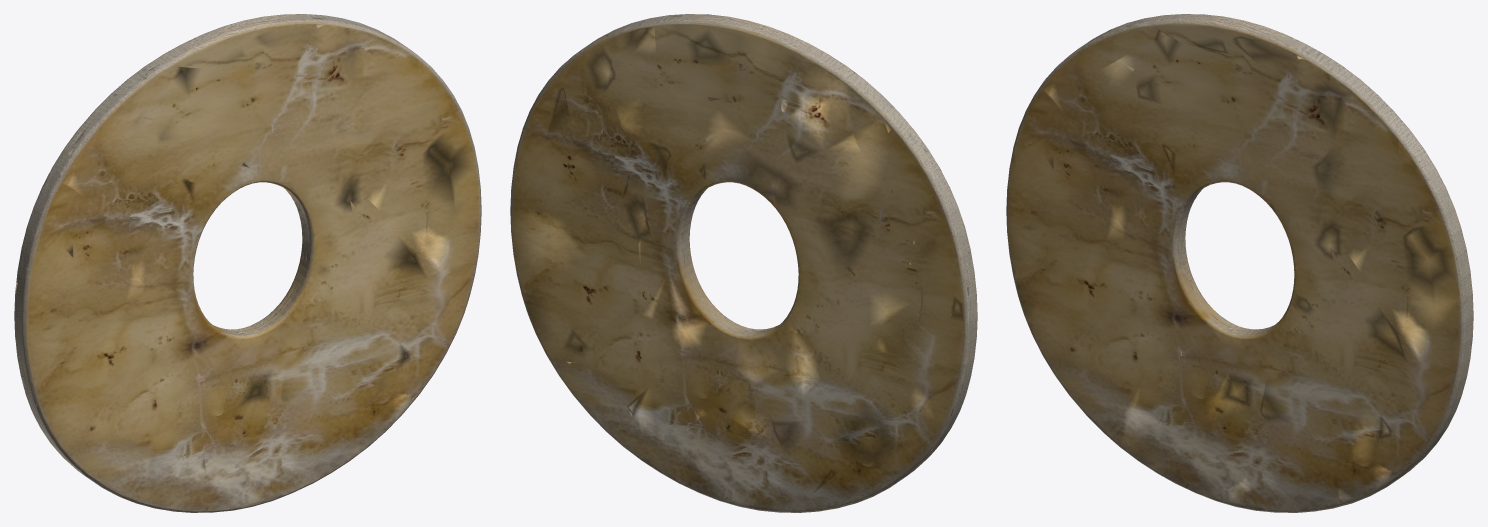
File: jade-bi-detail.glb
The picture shows the model from 3 angles, left to right: view 1: azimuth 30°, elevation 25°; view 2: azimuth 150°, elevation 25°; view 3: azimuth 330°, elevation 25°; orthographic projection.
Parts seen in each view (by area): view 1: node_0; view 2: node_0; view 3: node_0.
Part boxes in pixels (x1,y1,x2,y2): node_0: (14, 14, 481, 512); node_0: (510, 14, 977, 512); node_0: (1006, 14, 1473, 512).
Bounding box in the file's own units: 1.18 × 1.18 × 0.0522.
1 material, 1 textured.
